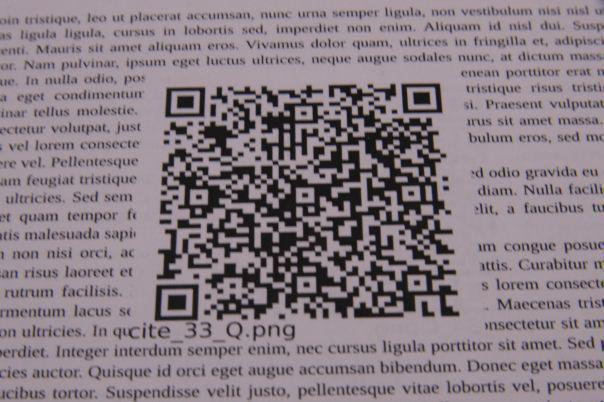qr_code: (154, 83, 460, 322)
